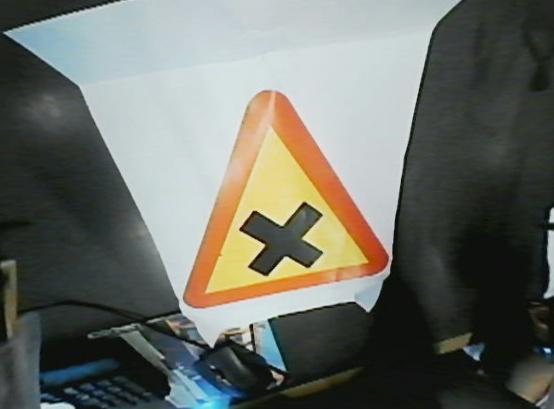junction: (171, 88, 392, 304)
